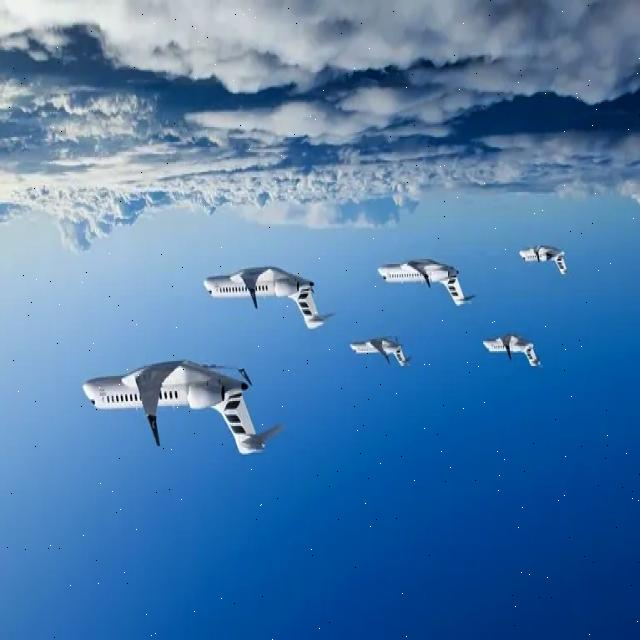aircraft: (48, 333, 286, 474), (187, 228, 327, 362), (352, 229, 468, 342), (496, 207, 574, 315), (336, 315, 412, 392), (478, 320, 546, 392)
